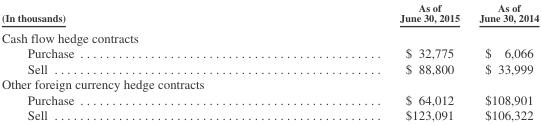table: (0, 1, 538, 122)
table column: (0, 1, 236, 122), (236, 1, 468, 122), (468, 1, 538, 122)
table column header: (0, 1, 538, 26)
table projected row header: (0, 26, 538, 45), (0, 76, 538, 91)
table row: (0, 1, 538, 26), (0, 26, 538, 45), (0, 60, 538, 76), (0, 91, 538, 107), (0, 45, 538, 60), (0, 76, 538, 91), (0, 107, 538, 122)
